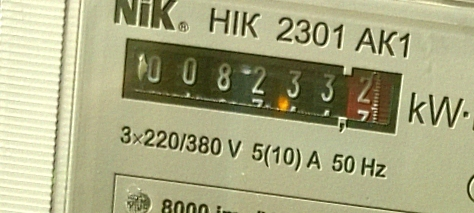0: (142, 51, 166, 86), (178, 55, 200, 88)
2: (246, 63, 270, 98), (354, 73, 375, 106)
3: (283, 67, 304, 100), (318, 71, 339, 104)
8: (213, 59, 234, 93)
screen: (107, 25, 416, 144)
